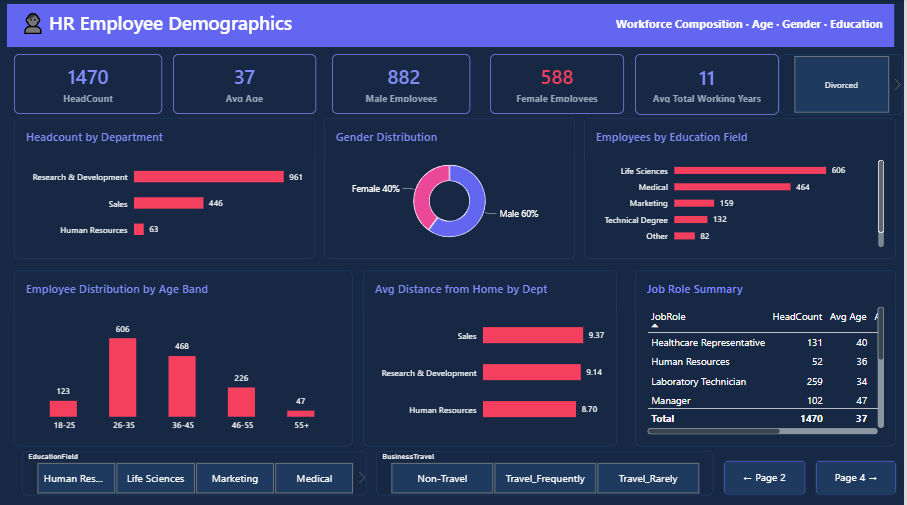

This screenshot's page, from the dashboard's own definition file:
{"tool":"powerbi","page":{"name":"HR Demographics","canvas":[1280,720],"ordinal":2},"visuals":[{"type":"shape","box":[10,8.8,1257.5,61.2],"z":0},{"type":"textbox","box":[31.2,17,489,42.5],"z":1000},{"type":"textbox","box":[873.1,25.5,386.9,25.5],"z":2000},{"type":"card","fields":{"Values":["HR.HeadCount"]},"box":[20,80,210,85],"z":3000},{"type":"card","fields":{"Values":["HR.Avg Age"]},"box":[245,80,202.5,85],"z":4000},{"type":"card","fields":{"Values":["HR.Female Employees"]},"box":[695,80,190,85],"z":5000},{"type":"card","fields":{"Values":["HR.Male Employees"]},"box":[470,80,196.2,85],"z":6000},{"type":"card","fields":{"Values":["HR.Avg Total Working Years"]},"box":[900.4,79.9,204.1,85.6],"z":7000},{"type":"clusteredBarChart","title":"Headcount by Department","fields":{"Category":["HR.Department"],"Y":["HR.HeadCount"]},"box":[19.7,169.8,427.3,200.2],"z":8000},{"type":"clusteredBarChart","title":"Employees by Education Field","fields":{"Category":["HR.EducationField"],"Y":["HR.HeadCount"]},"box":[827.7,169.8,442,200],"z":9000},{"type":"donutChart","title":"Gender Distribution","fields":{"Category":["HR.Gender"],"Y":["HR.HeadCount"]},"box":[459.4,169.8,355.8,200.2],"z":10000},{"type":"clusteredColumnChart","title":"Employee Distribution by Age Band","fields":{"Category":["HR.Age Band"],"Y":["HR.HeadCount"]},"box":[20,385,480,250],"z":11000},{"type":"clusteredBarChart","title":"Avg Distance from Home by Dept","fields":{"Category":["HR.Department"],"Y":["Avg(HR.DistanceFromHome)"]},"box":[515,385,360,250],"z":12000},{"type":"slicer","fields":{"Values":["HR.EducationField"]},"box":[31.4,642.1,489.5,62.8],"z":14000},{"type":"slicer","fields":{"Values":["HR.MaritalStatus"]},"box":[1104.5,79.9,175.5,85.6],"z":15000},{"type":"slicer","fields":{"Values":["HR.BusinessTravel"]},"box":[532.3,642.1,478,62.8],"z":16000},{"type":"actionButton","box":[1154.9,654.3,116.2,50.1],"z":17000},{"type":"actionButton","box":[1024.4,654.3,118,50.1],"z":18000},{"type":"tableEx","title":"Job Role Summary","fields":{"Values":["HR.JobRole","HR.HeadCount","HR.Avg Age","HR.Avg Monthly Income","HR.Attrition Rate %"]},"box":[900,385,370,250],"z":18001}]}

Visuals, with their boxes in screenshot pixels (x1, y1, x2, y2), scaled from the page's 1280x720 canvas onto the 907x505 screenshot:
shape: 7,6,898,49
textbox: 22,12,369,42
textbox: 619,18,893,36
card - HR.HeadCount: 14,56,163,116
card - HR.Avg Age: 174,56,317,116
card - HR.Female Employees: 492,56,627,116
card - HR.Male Employees: 333,56,472,116
card - HR.Avg Total Working Years: 638,56,783,116
"Headcount by Department" clusteredBarChart: 14,119,317,260
"Employees by Education Field" clusteredBarChart: 587,119,900,259
"Gender Distribution" donutChart: 326,119,578,260
"Employee Distribution by Age Band" clusteredColumnChart: 14,270,354,445
"Avg Distance from Home by Dept" clusteredBarChart: 365,270,620,445
slicer - HR.EducationField: 22,450,369,494
slicer - HR.MaritalStatus: 783,56,906,116
slicer - HR.BusinessTravel: 377,450,716,494
actionButton: 818,459,901,494
actionButton: 726,459,809,494
"Job Role Summary" tableEx: 638,270,900,445
